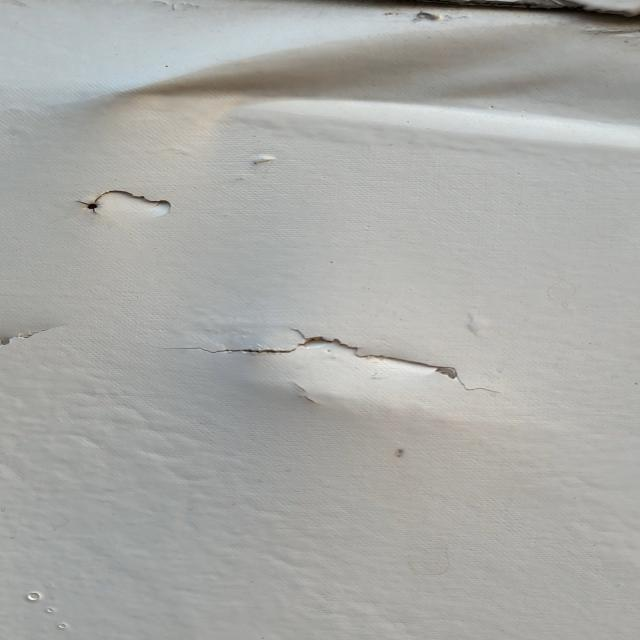Dents or Deformation: (82, 23, 640, 136)
Scratches: (169, 326, 533, 397), (66, 177, 183, 229), (1, 316, 82, 362)
